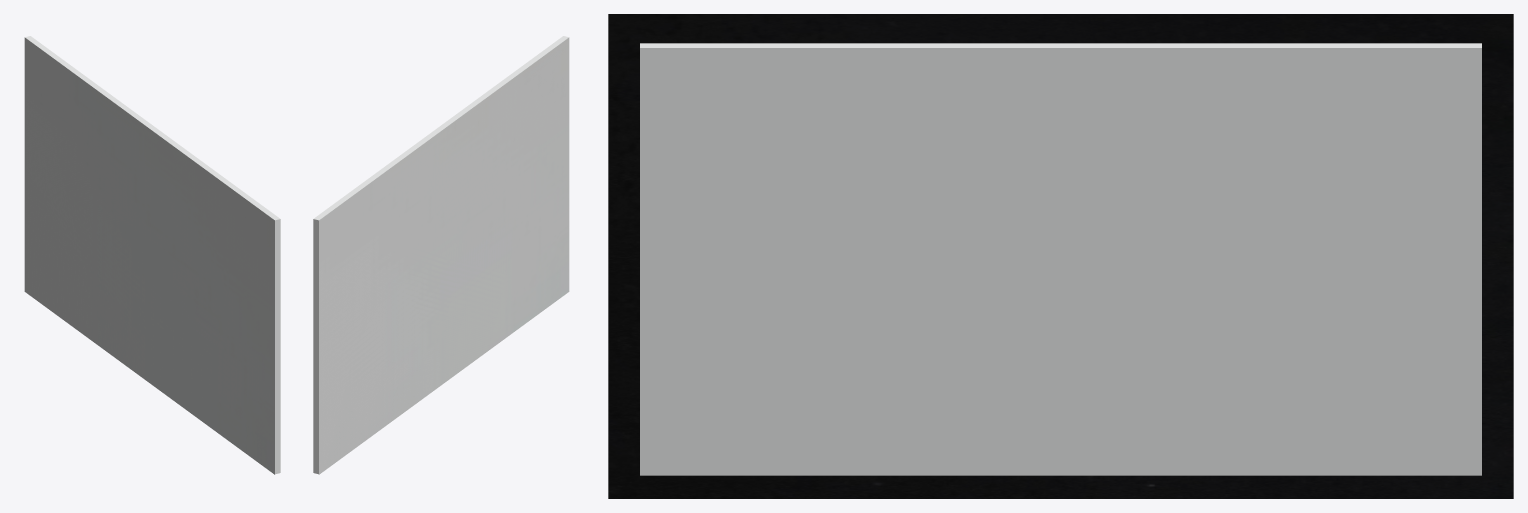
Rendered from leinwand_120.glb.
The picture shows the model from 3 angles, left to right: view 1: azimuth 30°, elevation 25°; view 2: azimuth 150°, elevation 25°; view 3: azimuth 270°, elevation 25°; orthographic projection. The views are drawn at different scales.
Parts seen in each view (by area): view 1: Plane; view 2: Plane; view 3: Plane, Plane.001.
Part boxes in pixels (x1,y1,x2,y2): Plane: [24, 36, 280, 474]; Plane: [313, 36, 569, 474]; Plane: [640, 43, 1481, 475]; Plane.001: [608, 14, 1513, 498].
Bounding box in the file's own units: 0.0877 × 3.38 × 5.72.
2 materials, 2 textured.
